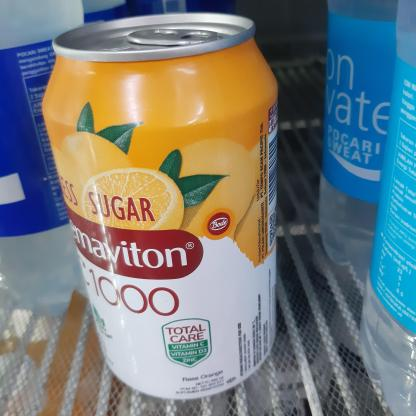alumunium_can: (38, 0, 284, 416)
